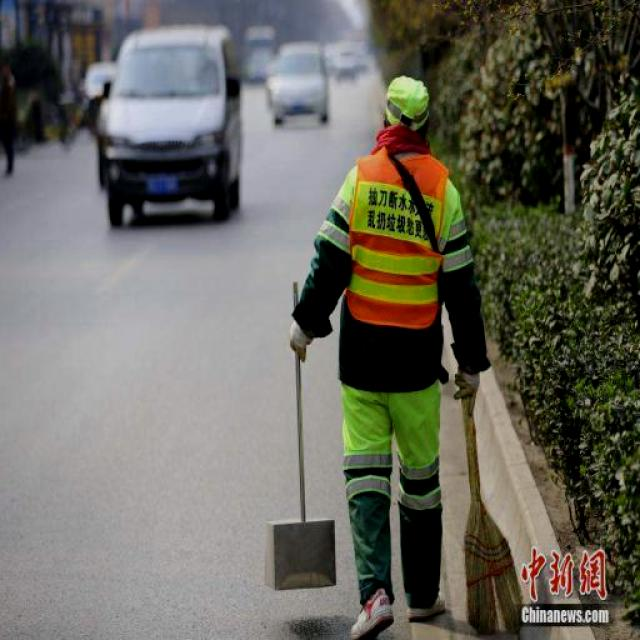hand_glove: (450, 360, 484, 420), (282, 313, 318, 365)
head_nohelmet: (382, 71, 432, 140)
person: (289, 71, 486, 640)
shoes: (343, 576, 402, 640)
vest: (336, 150, 455, 336)
